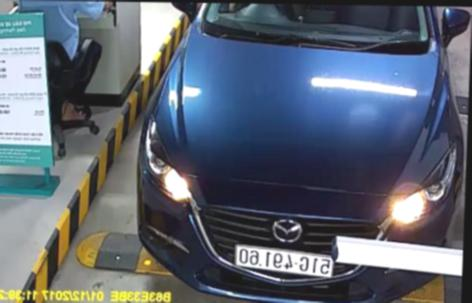License_Plate: (232, 248, 337, 276)
